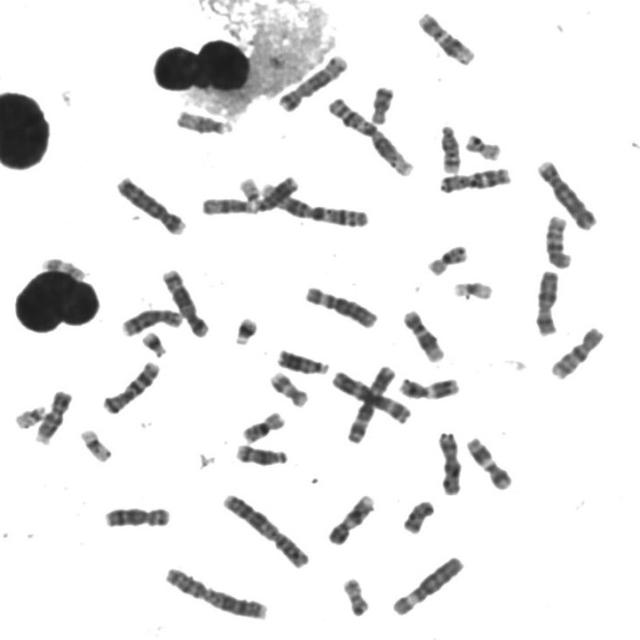A1: (322, 92, 417, 178), (255, 176, 372, 229)
A2: (216, 487, 312, 570), (159, 561, 270, 621)
A3: (327, 366, 412, 424), (342, 360, 398, 446)
B4: (532, 154, 598, 231), (111, 172, 187, 236)
B5: (272, 49, 350, 112), (157, 263, 210, 339)
C10: (545, 322, 606, 381), (541, 210, 574, 270)
C11: (462, 432, 514, 492), (394, 372, 461, 402)
C12: (412, 6, 478, 67), (398, 304, 447, 363)
C6: (386, 550, 466, 618), (300, 280, 380, 330)
C7: (96, 356, 162, 415), (434, 161, 513, 195)
C8: (116, 303, 185, 338), (100, 501, 172, 529)
C9: (322, 489, 377, 546), (29, 385, 74, 445)
D13: (251, 172, 302, 218), (272, 343, 330, 375)
D14: (230, 438, 290, 468), (434, 119, 463, 174)
D15: (170, 105, 234, 136), (197, 192, 257, 216)
E16: (237, 406, 287, 444), (422, 238, 469, 278)
E17: (264, 366, 310, 408), (37, 253, 88, 281)
E18: (398, 494, 437, 535), (365, 80, 396, 125)
F19: (74, 423, 114, 463), (448, 275, 496, 301)
F20: (337, 572, 371, 618), (460, 128, 502, 161)
G21: (229, 310, 260, 346), (136, 326, 168, 359)
G22: (10, 400, 47, 430), (234, 172, 263, 204)
X: (530, 265, 562, 338), (432, 426, 464, 496)
